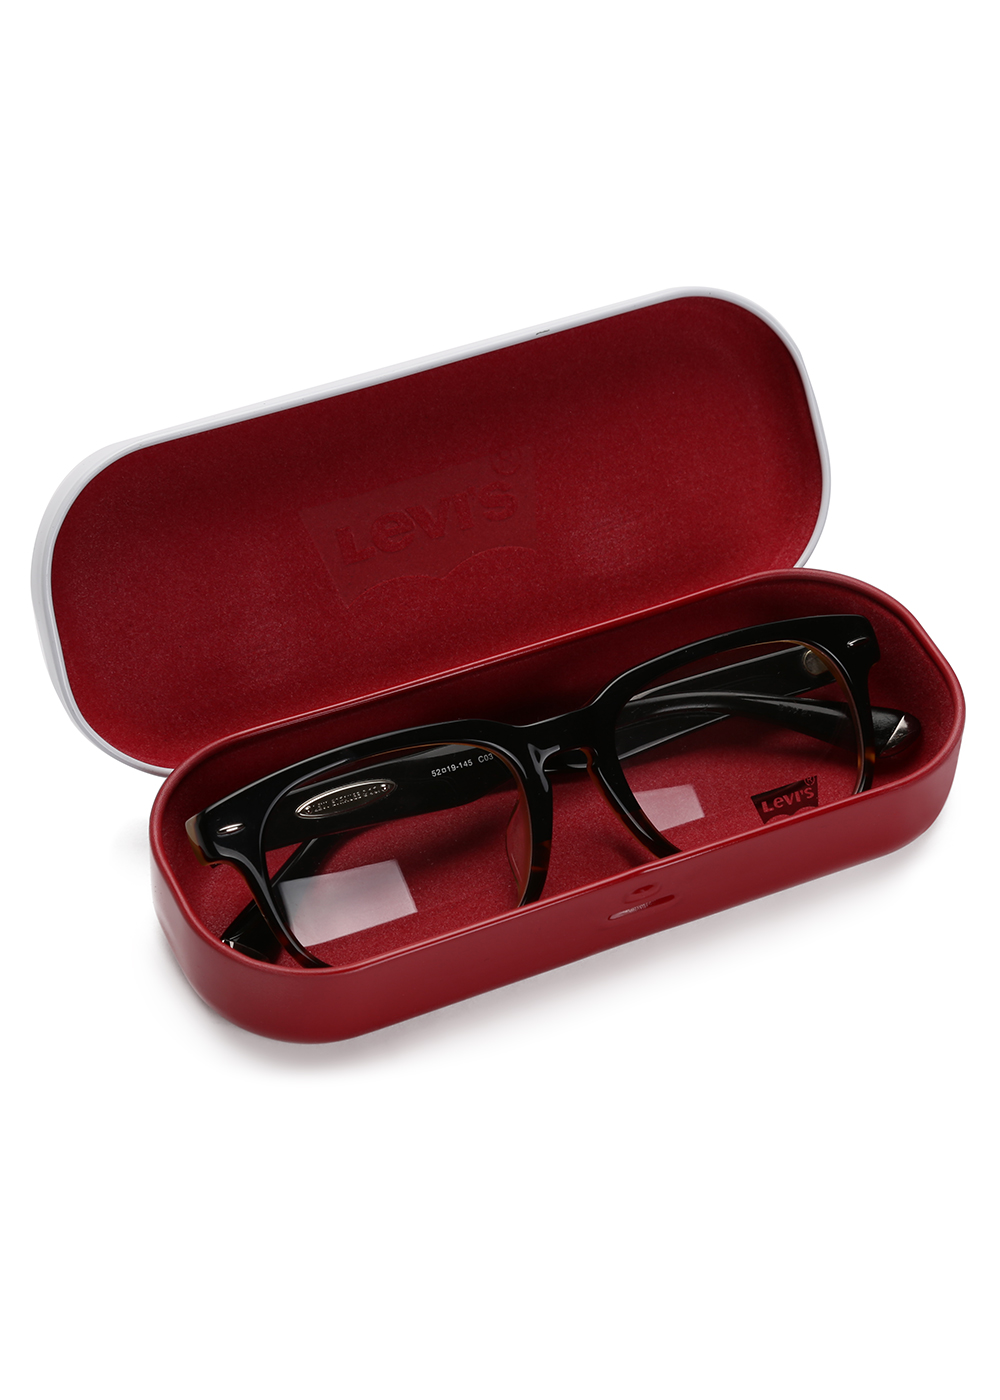Levi's: (277, 431, 594, 622), (736, 767, 834, 831)
